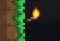torchT: (0, 1, 60, 41)
